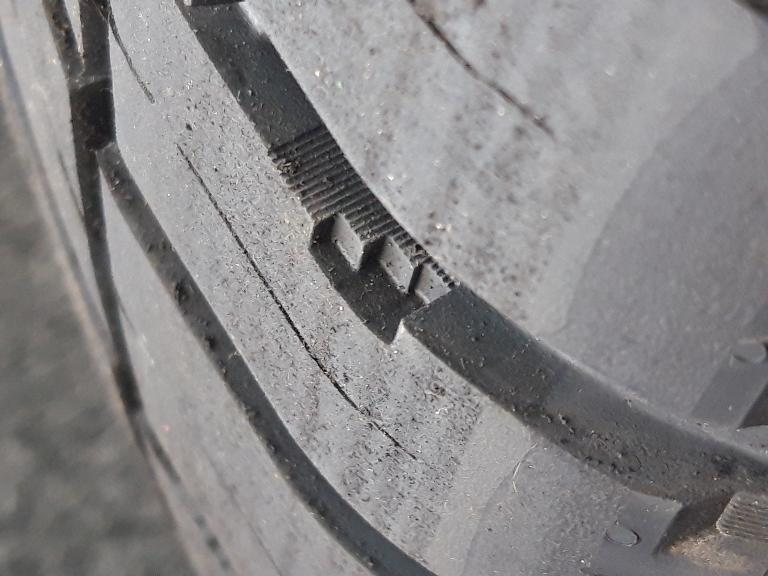temoin:75: (284, 166, 475, 359)
